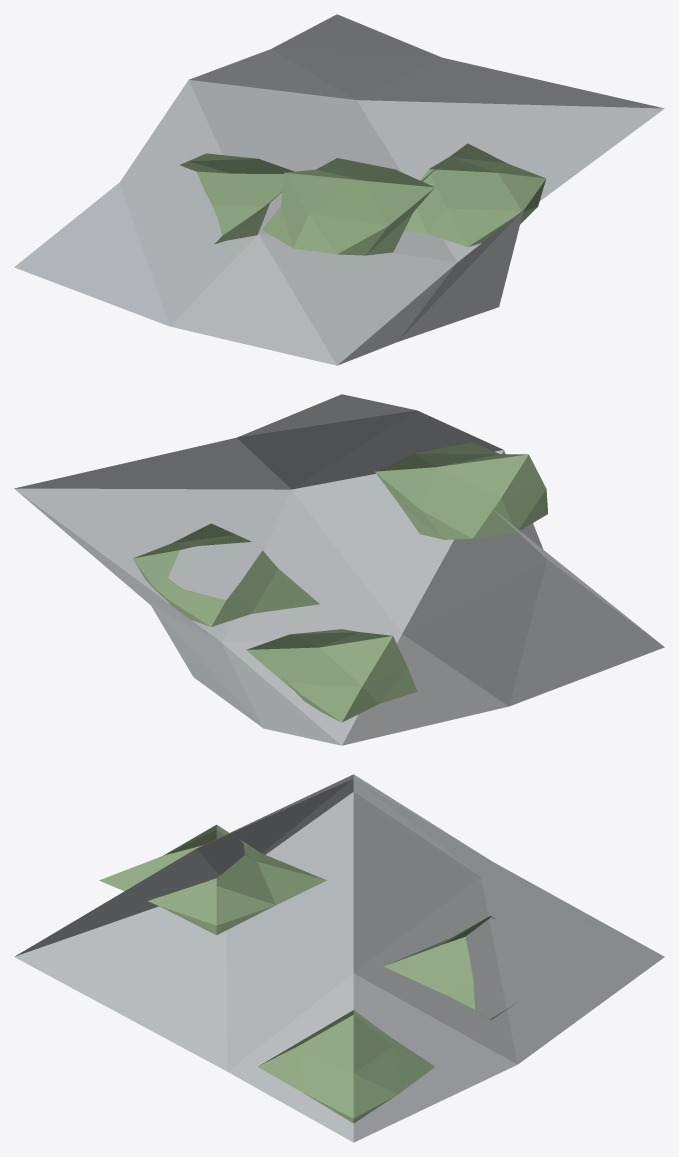
Rendered from moss_rock_v10.glb.
The picture shows the model from 3 angles, top to bottom: view 1: azimuth 30°, elevation 25°; view 2: azimuth 150°, elevation 25°; view 3: azimuth 270°, elevation 25°; orthographic projection. The views are drawn at different scales.
Parts seen in each view (by area): view 1: lod0; view 2: lod0; view 3: lod0.
Part boxes in pixels (x1,y1,x2,y2): lod0: (14,14,664,365); lod0: (14,394,664,745); lod0: (14,774,664,1142).
Size of what is drawn, in the model's own units: 0.8714 by 0.4496 by 0.7199.
